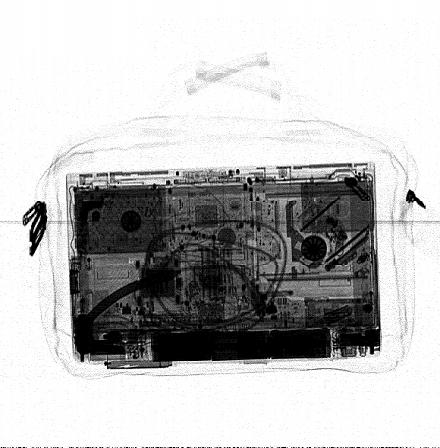Baton: (105, 325, 349, 370)
